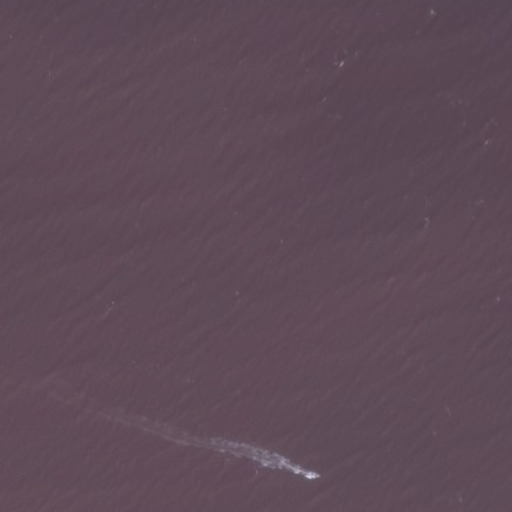ship: (301, 467, 324, 483)
